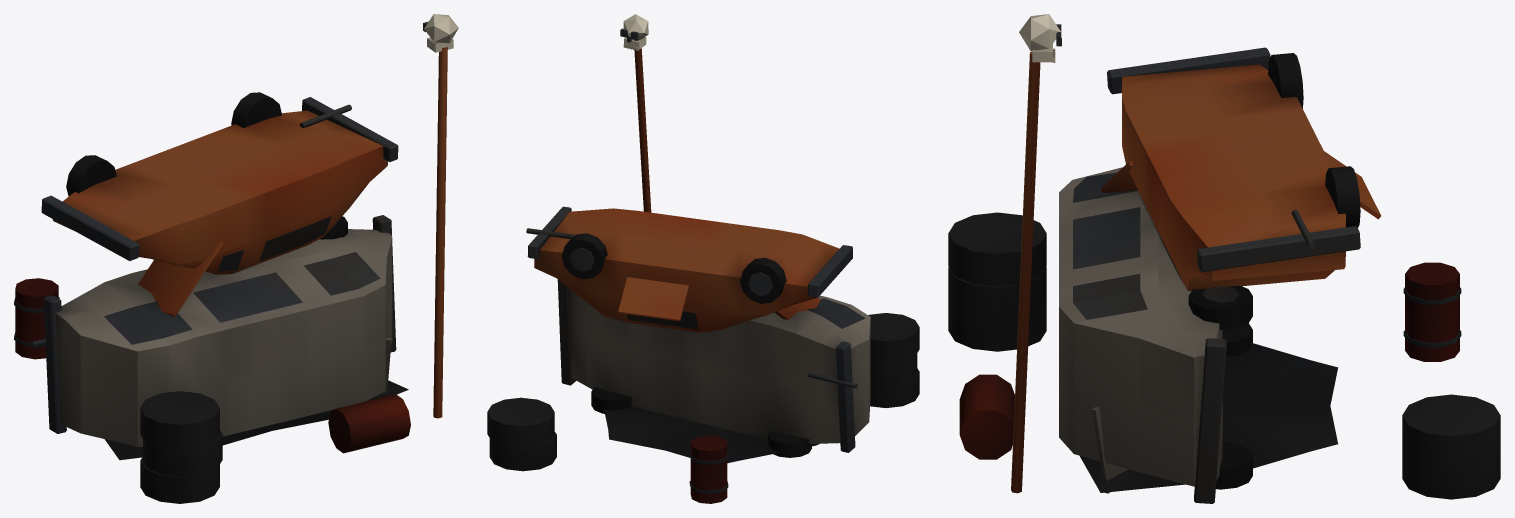
The model's file is rb_wreck_stack.glb.
3 renders of one model, left to right at view 1: azimuth 30°, elevation 25°; view 2: azimuth 150°, elevation 25°; view 3: azimuth 270°, elevation 25°, orthographic. The views are drawn at different scales.
Parts seen in each view (by area): view 1: paint, rust, metal_dark, rubber, bone; view 2: paint, rust, rubber, metal_dark, bone; view 3: rust, metal_dark, paint, rubber, bone.
Boxes of the visible parts, x1=… form: paint: x1=56, y1=229, x2=392, y2=446; rust: x1=15, y1=47, x2=447, y2=453; metal_dark: x1=14, y1=21, x2=428, y2=460; rubber: x1=66, y1=92, x2=347, y2=503; bone: x1=424, y1=14, x2=458, y2=52; paint: x1=571, y1=290, x2=870, y2=443; rust: x1=534, y1=48, x2=839, y2=503; rubber: x1=487, y1=233, x2=919, y2=471; metal_dark: x1=526, y1=28, x2=865, y2=493; bone: x1=623, y1=14, x2=648, y2=50; rust: x1=959, y1=51, x2=1459, y2=493; metal_dark: x1=1056, y1=24, x2=1461, y2=503; paint: x1=1059, y1=167, x2=1222, y2=493; rubber: x1=948, y1=53, x2=1500, y2=499; bone: x1=1019, y1=14, x2=1060, y2=62.
Size of what is drawn, in the model's own units: 5.39 by 5.77 by 5.84.
